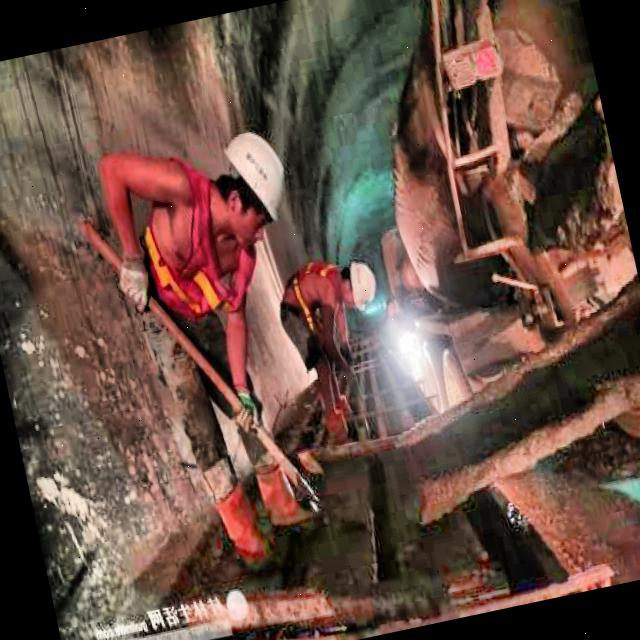helmet: (193, 110, 308, 270), (322, 255, 386, 324)
